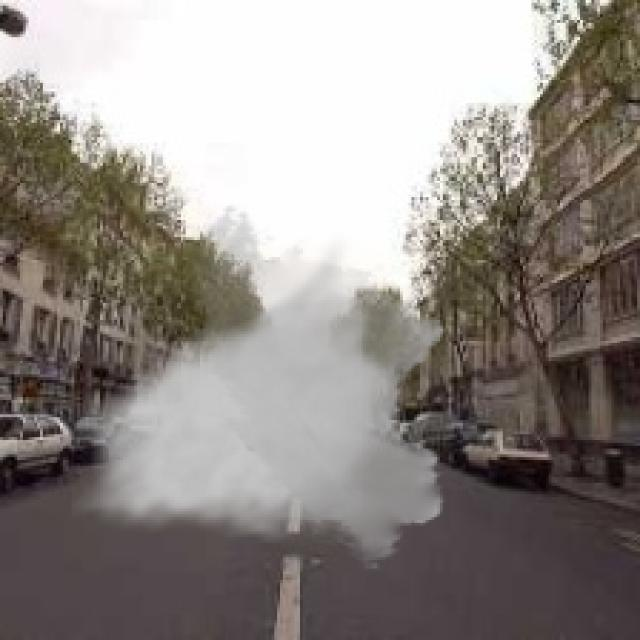smoke: (72, 203, 454, 571)
